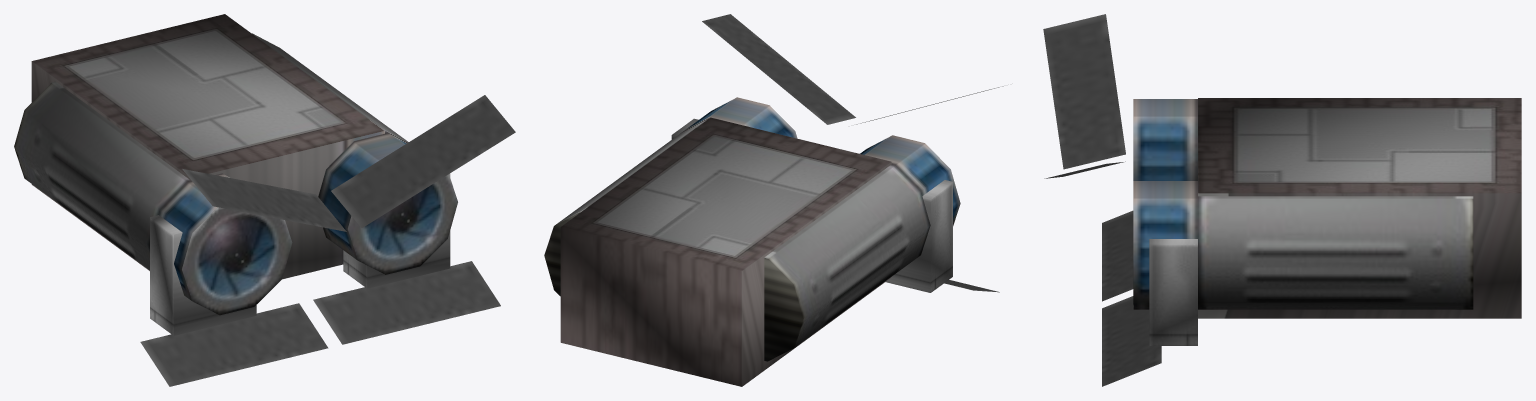
Rendered from head_j5.gltf.
3 renders of one model, left to right at view 1: azimuth 30°, elevation 25°; view 2: azimuth 150°, elevation 25°; view 3: azimuth 270°, elevation 25°, orthographic. The views are drawn at different scales.
Parts seen in each view (by area): view 1: Mesh_0, Mesh_1; view 2: Mesh_0; view 3: Mesh_0.
Boxes of the visible parts, x1=… form: Mesh_0: x1=14, y1=14, x2=515, y2=386; Mesh_1: x1=182, y1=174, x2=457, y2=315; Mesh_0: x1=544, y1=14, x2=1003, y2=386; Mesh_0: x1=1043, y1=14, x2=1521, y2=386.
Bounding box in the file's own units: 0.3048 × 0.1873 × 0.3758.
Materials: 2 (2 with a texture image).
